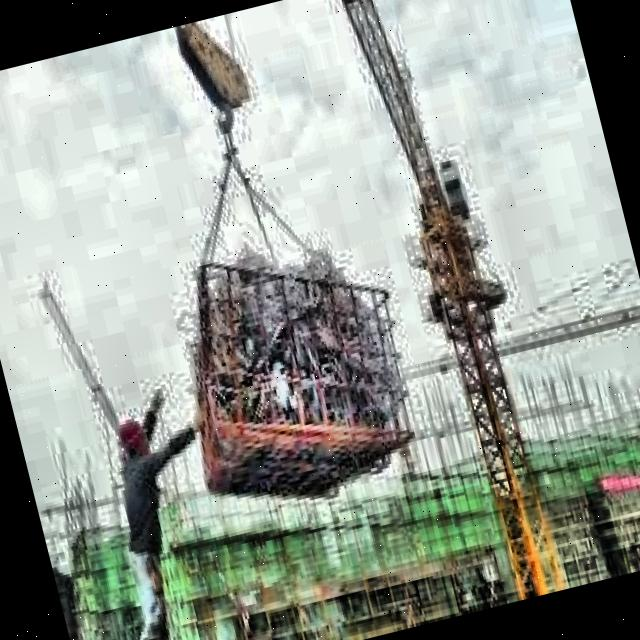helmet: (110, 412, 158, 474)
